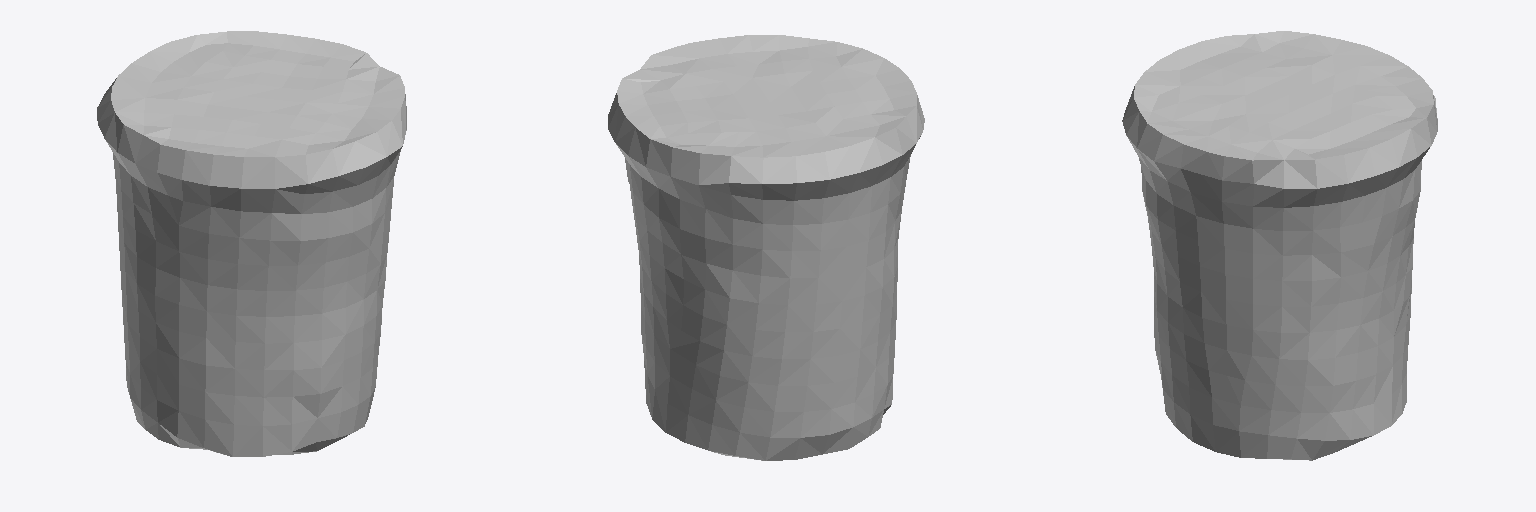
File: græsk-low.obj
3 views of the same model, side by side, from view 1: azimuth 30°, elevation 25°; view 2: azimuth 150°, elevation 25°; view 3: azimuth 270°, elevation 25° (orthographic).
Size of the model in its own units: 0.1246 by 0.1409 by 0.1246.